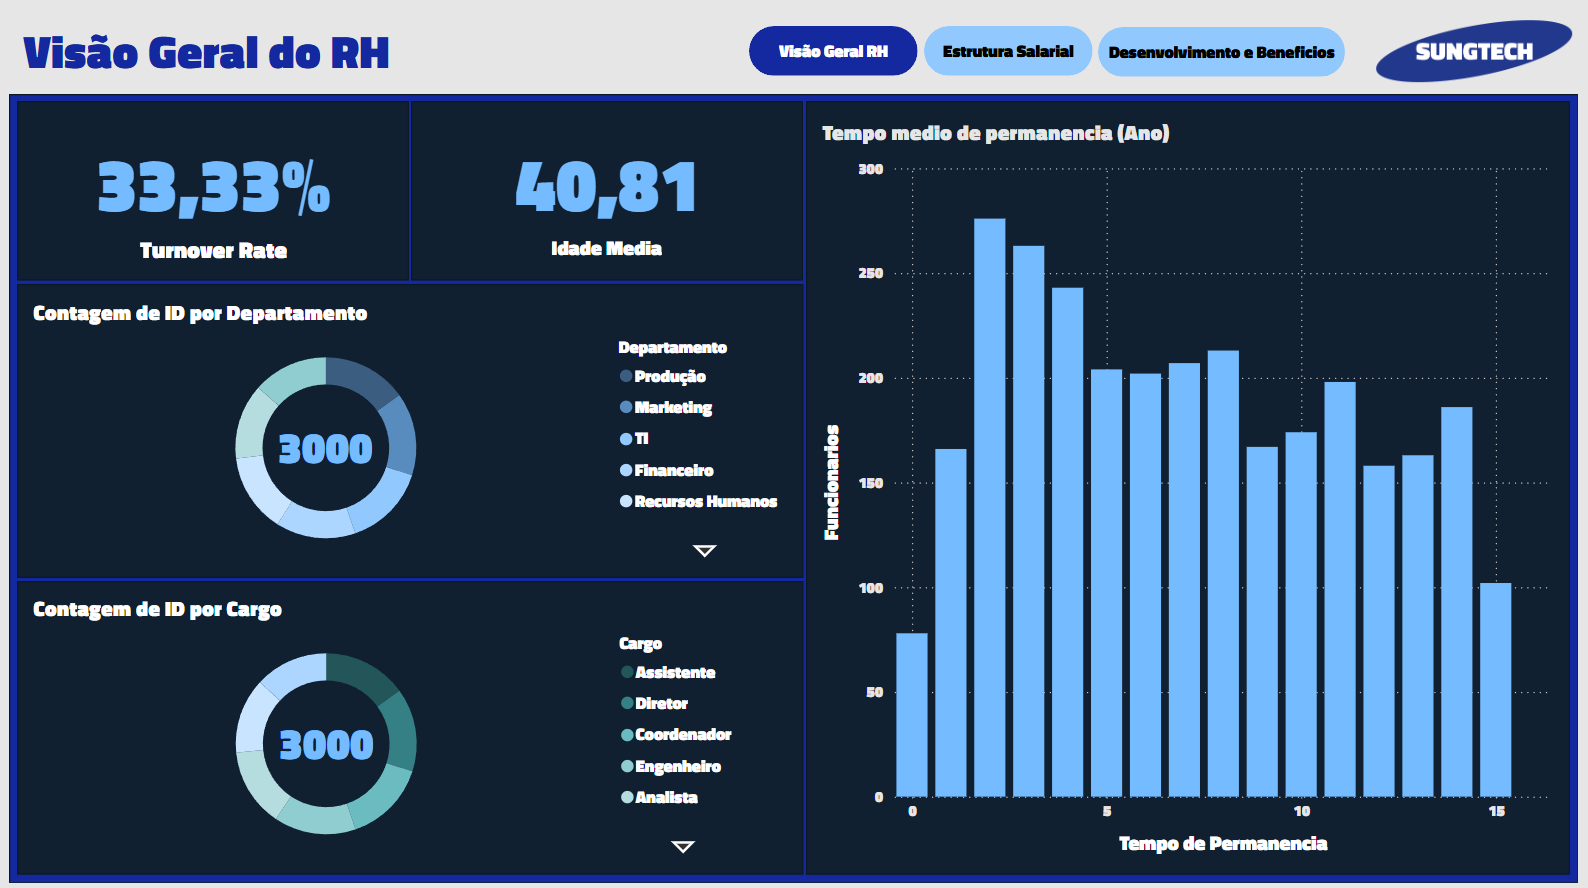

This screenshot's page, from the dashboard's own definition file:
{"tool":"powerbi","page":{"name":"Visão Geral do RH","canvas":[1280,720],"ordinal":0},"visuals":[{"type":"group","id":"g1","title":"Fundo","box":[7.3,8.2,1265.5,704.5],"z":0},{"type":"shape","box":[7.3,76.4,1265.5,636.4],"z":0,"group":"g1"},{"type":"shape","box":[13.4,82.4,316,144.7],"z":1000,"group":"g6"},{"type":"shape","box":[649.6,82.4,616,623.7],"z":2000,"group":"g4"},{"type":"group","id":"g2","title":"Funcionarios por Cargo","box":[13.4,469.5,634.3,236.6],"z":3000},{"type":"shape","box":[13.4,229.9,634.3,237],"z":3500,"group":"g3"},{"type":"image","title":"Logo","box":[1104.6,8.2,168.2,68.2],"z":4000,"group":"g1"},{"type":"shape","box":[331.5,82.4,316.2,144.7],"z":4000,"group":"g5"},{"type":"group","id":"g3","title":"Funcionarios por Departamento","box":[13.4,229.9,634.3,237],"z":4000},{"type":"card","fields":{"Values":["F_Funcionarios.Total_Funcionarios"]},"box":[211.7,341,100.6,39.3],"z":4000,"group":"g3"},{"type":"group","id":"g4","title":"Tempo de Permanencia","box":[649.6,82.4,616,623.7],"z":5000},{"type":"textbox","box":[97.7,183,147.5,44.1],"z":5000,"group":"g6"},{"type":"textbox","box":[427.3,183,123.6,44.1],"z":5000,"group":"g5"},{"type":"donutChart","fields":{"Category":["F_Funcionarios.Departamento"],"Y":["CountNonNull(F_Funcionarios.ID)"]},"box":[21.1,238.5,618.9,219.4],"z":5000,"group":"g3"},{"type":"group","id":"g5","title":"Media de Idade","box":[331.5,82.4,316.2,144.7],"z":6000},{"type":"card","title":"Idade Media","fields":{"Values":["F_Funcionarios.Media_Idade"]},"box":[339.2,92,300.8,125.5],"z":6000,"group":"g5"},{"type":"card","title":"Turnover Rate","fields":{"Values":["F_Funcionarios.Turnover_Rate"]},"box":[21.1,92,300.8,125.5],"z":7000,"group":"g6"},{"type":"shape","box":[13.4,469.5,634.3,236.6],"z":7000,"group":"g2"},{"type":"group","id":"g6","title":"Turnover_Rate","box":[13.4,82.4,316,144.7],"z":7500},{"type":"group","id":"g7","title":"Botões de Navegação","box":[603.6,22,481,41.2],"z":8500},{"type":"columnChart","title":"Tempo medio de permanencia (Ano)","fields":{"Category":["F_Funcionarios.Tempo_Permanencia"],"Y":["F_Funcionarios.Total_Funcionarios"]},"box":[657.3,93.9,597.8,603.6],"z":9000,"group":"g4"},{"type":"card","fields":{"Values":["F_Funcionarios.Total_Funcionarios"]},"box":[212.7,579.7,100.6,39.3],"z":9000,"group":"g2"},{"type":"textbox","title":"Titulo","box":[13.6,8.5,338,67.8],"z":9500},{"type":"actionButton","title":"Visão geral RH","box":[603.6,22,136,40.2],"z":10000,"group":"g7"},{"type":"donutChart","fields":{"Y":["CountNonNull(F_Funcionarios.ID)"],"Category":["F_Funcionarios.Cargo"]},"box":[21.6,477.7,582.5,219.4],"z":10000,"group":"g2"},{"type":"actionButton","title":"Estrutura Salarial","box":[744.4,22,136,40.2],"z":11000,"group":"g7"},{"type":"actionButton","title":"Desenvolvimento e Beneficios","box":[885.3,23,199.3,40.2],"z":12000,"group":"g7"}]}

Visuals, with their boxes in screenshot pixels (x1, y1, x2, y2), scaled from the page's 1280x720 canvas onto the 1588x888 screenshot:
"Fundo" group: [9, 10, 1579, 879]
shape: [9, 94, 1579, 879]
shape: [17, 102, 409, 280]
shape: [806, 102, 1570, 871]
"Funcionarios por Cargo" group: [17, 579, 804, 871]
shape: [17, 284, 804, 576]
"Logo" image: [1370, 10, 1579, 94]
shape: [411, 102, 804, 280]
"Funcionarios por Departamento" group: [17, 284, 804, 576]
card - F_Funcionarios.Total_Funcionarios: [263, 421, 387, 469]
"Tempo de Permanencia" group: [806, 102, 1570, 871]
textbox: [121, 226, 304, 280]
textbox: [530, 226, 683, 280]
donutChart - F_Funcionarios.Departamento x CountNonNull(F_Funcionarios.ID): [26, 294, 794, 565]
"Media de Idade" group: [411, 102, 804, 280]
"Idade Media" card: [421, 113, 794, 268]
"Turnover Rate" card: [26, 113, 399, 268]
shape: [17, 579, 804, 871]
"Turnover_Rate" group: [17, 102, 409, 280]
"Botões de Navegação" group: [749, 27, 1346, 78]
"Tempo medio de permanencia (Ano)" columnChart: [815, 116, 1557, 860]
card - F_Funcionarios.Total_Funcionarios: [264, 715, 389, 763]
"Titulo" textbox: [17, 10, 436, 94]
"Visão geral RH" actionButton: [749, 27, 918, 77]
donutChart - CountNonNull(F_Funcionarios.ID) x F_Funcionarios.Cargo: [27, 589, 749, 860]
"Estrutura Salarial" actionButton: [924, 27, 1092, 77]
"Desenvolvimento e Beneficios" actionButton: [1098, 28, 1346, 78]
